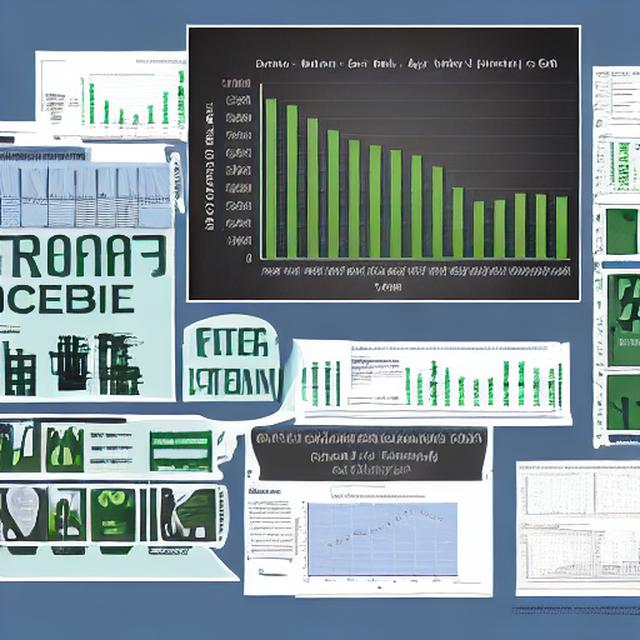Graph: (197, 54, 579, 300), (293, 491, 465, 591), (68, 71, 175, 133), (519, 472, 590, 522)
